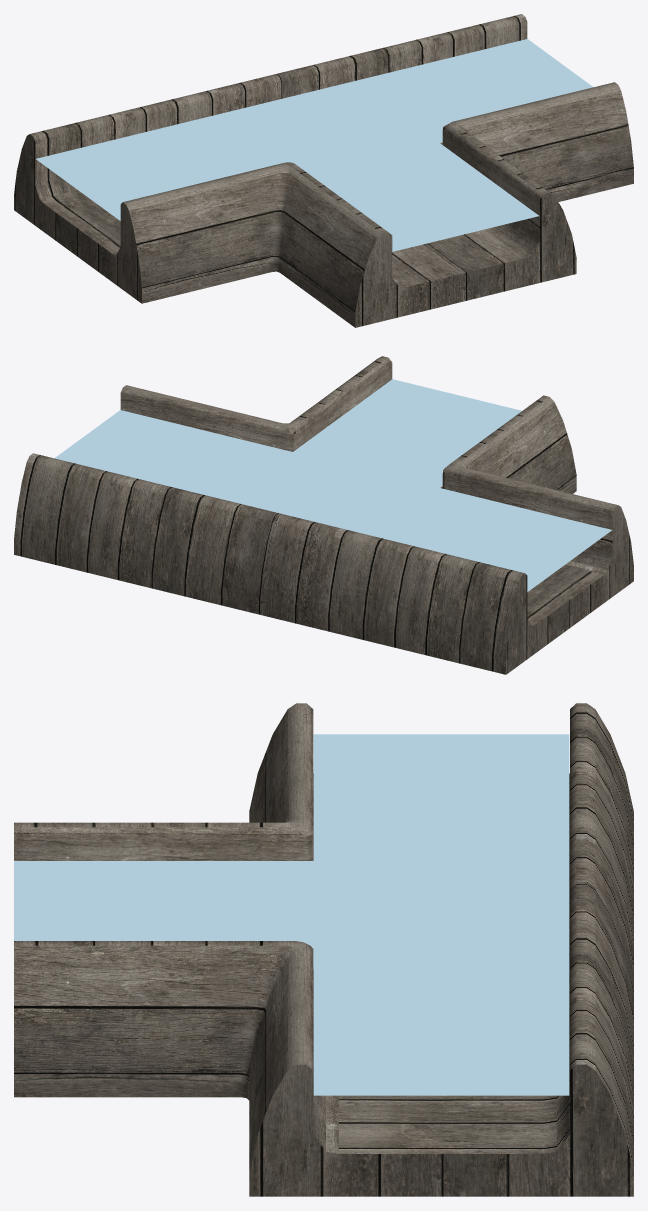
File: tee.glb
The picture shows the model from 3 angles, top to bottom: view 1: azimuth 30°, elevation 25°; view 2: azimuth 150°, elevation 25°; view 3: azimuth 270°, elevation 25°; orthographic projection. The views are drawn at different scales.
Parts seen in each view (by area): view 1: Channel, Water; view 2: Channel, Water; view 3: Channel, Water.
Part boxes in pixels (x1=…): Channel: x1=14, y1=14, x2=633, y2=327; Water: x1=36, y1=39, x2=593, y2=251; Channel: x1=14, y1=356, x2=633, y2=674; Water: x1=54, y1=379, x2=611, y2=591; Channel: x1=14, y1=703, x2=633, y2=1196; Water: x1=14, y1=734, x2=569, y2=1095.
Bounding box in the file's own units: 2 × 0.34 × 1.45.
Materials: 2 (1 with a texture image).
